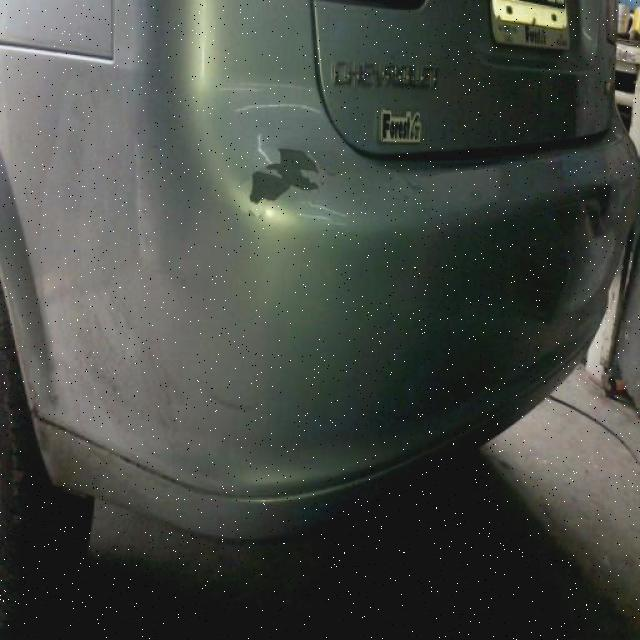car damage: (249, 147, 322, 205), (201, 382, 265, 423)
